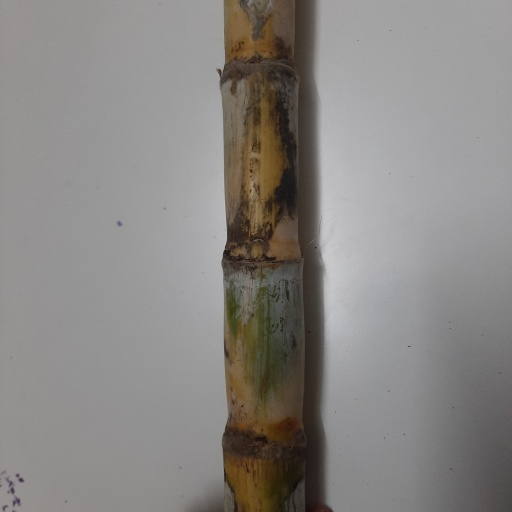Bud: (246, 240, 270, 263)
